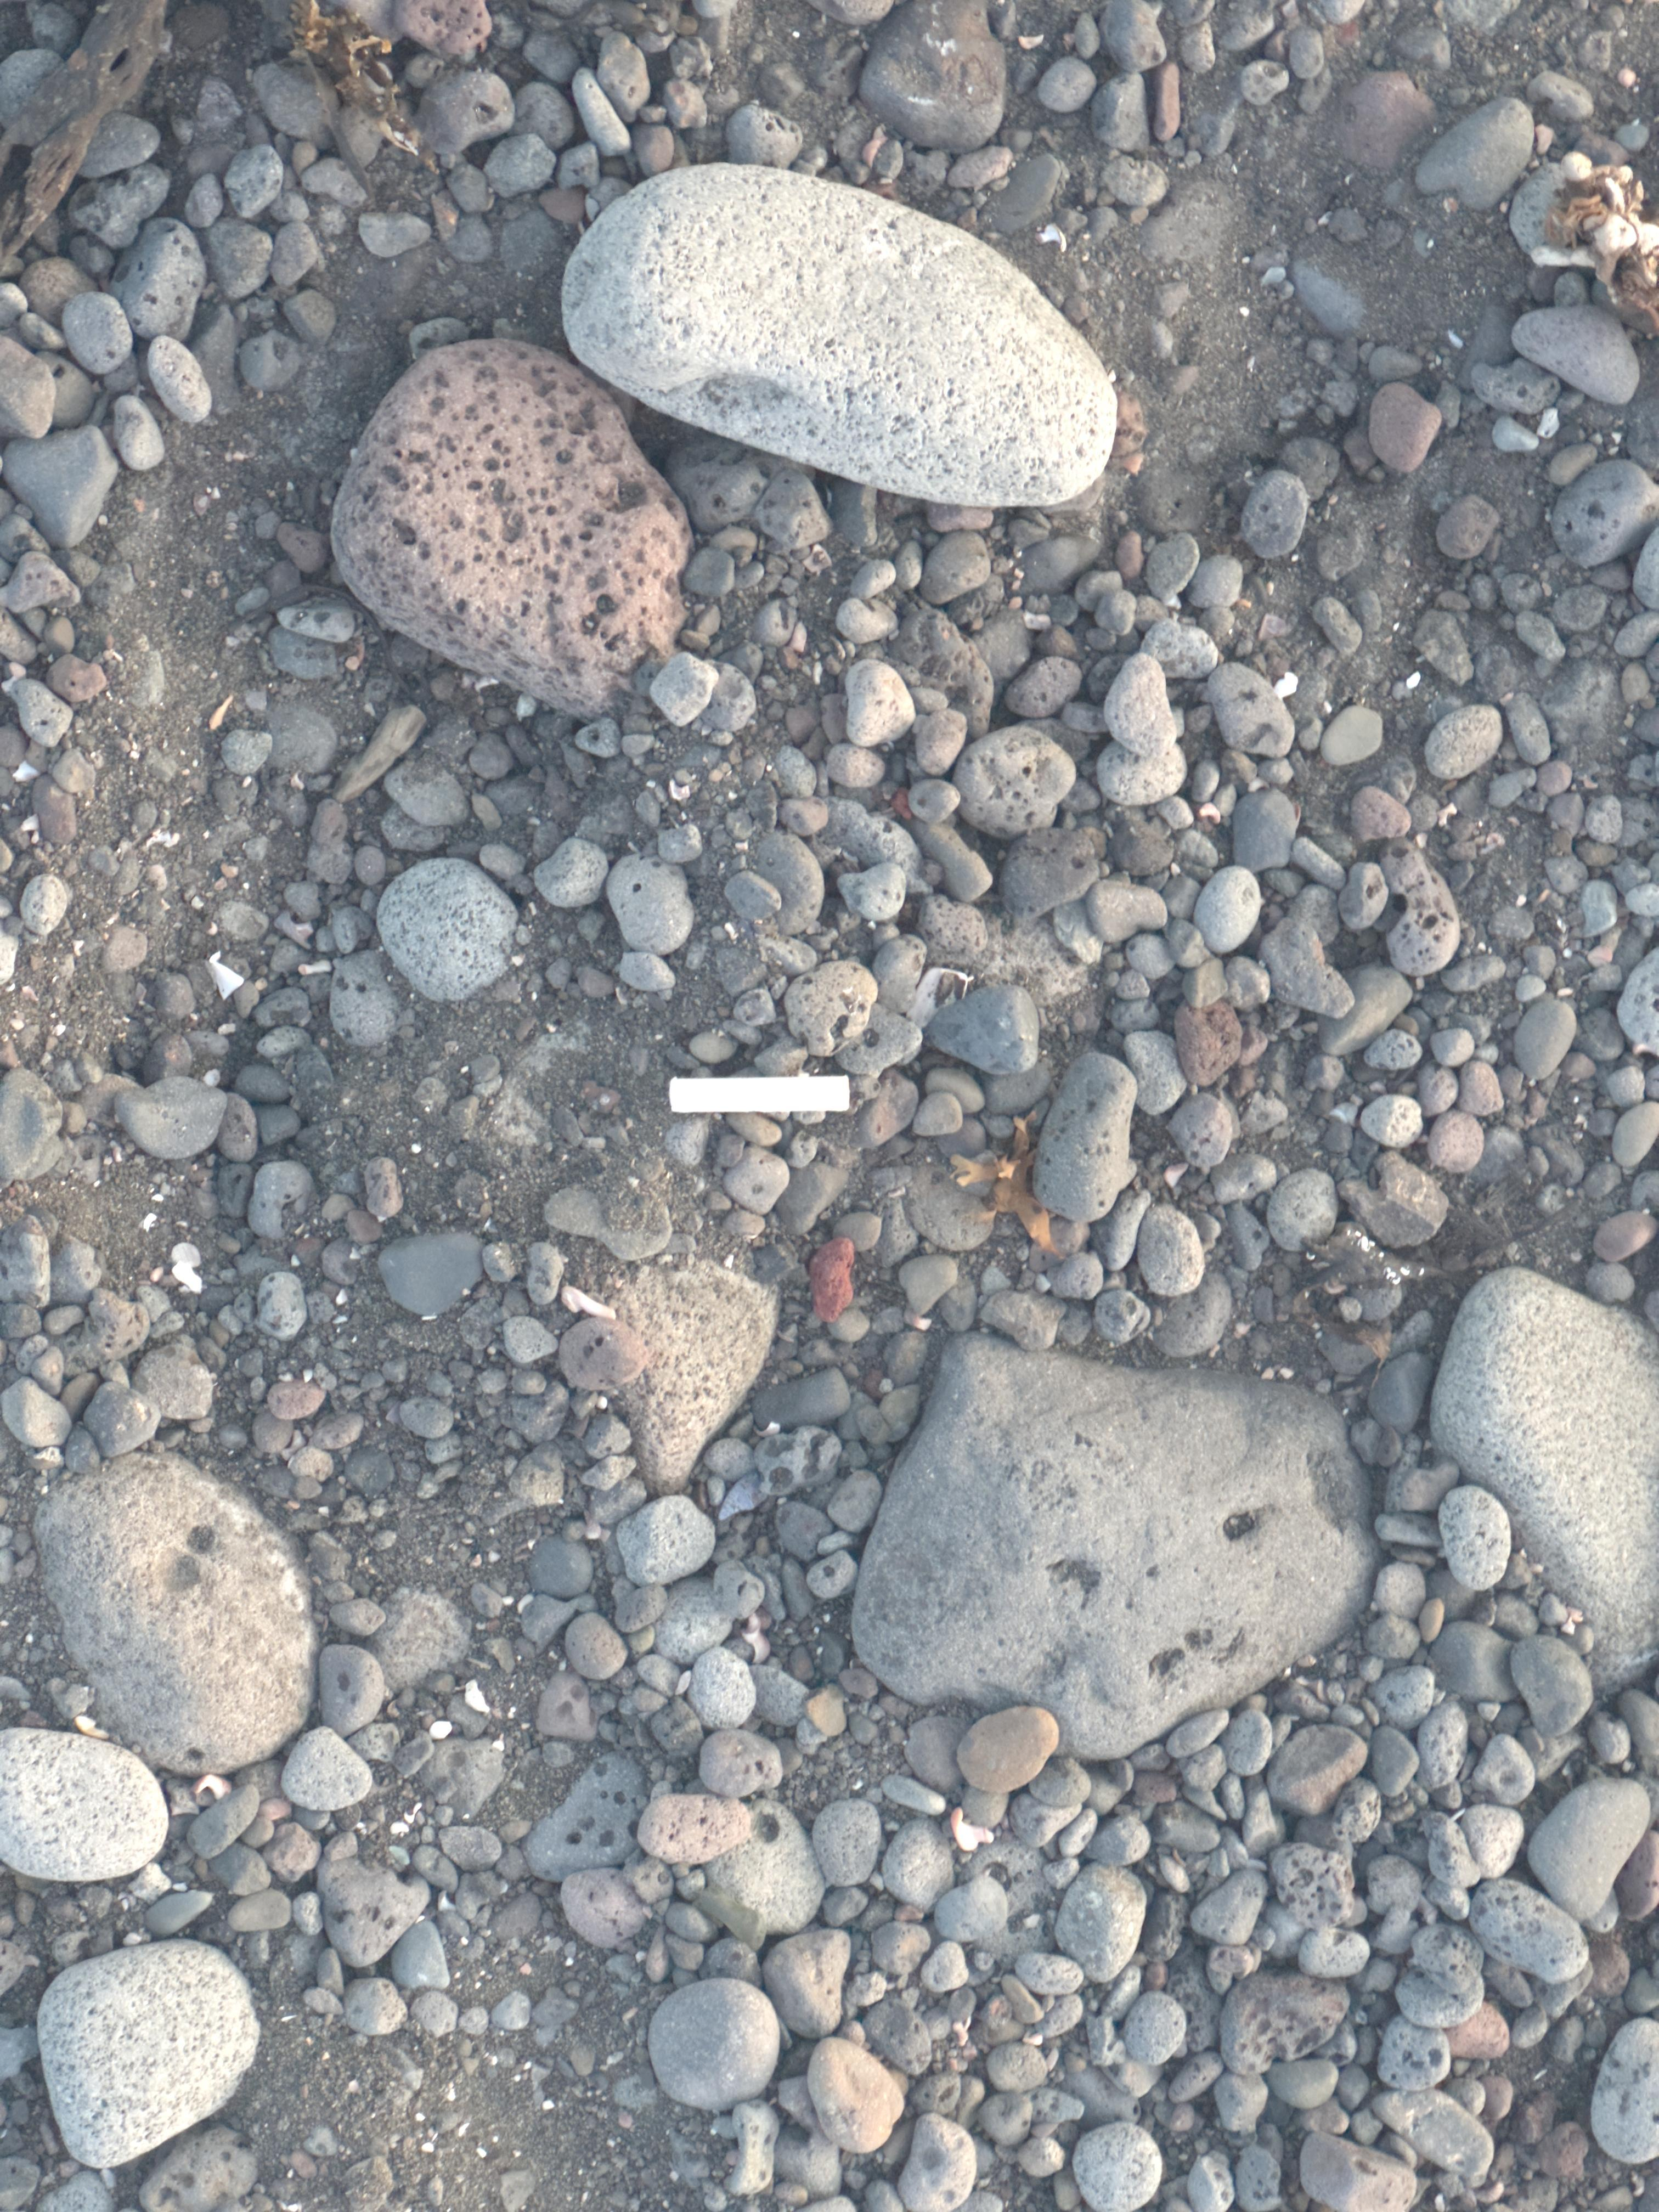trash: (669, 1076, 850, 1115)
